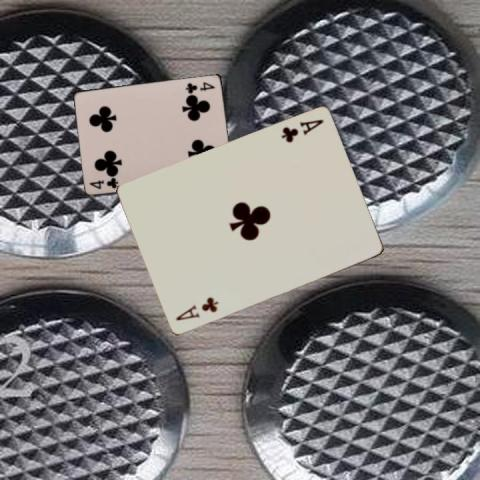4c: (183, 79, 216, 94), (87, 175, 120, 190)
Ac: (173, 294, 220, 322), (278, 116, 325, 144)
